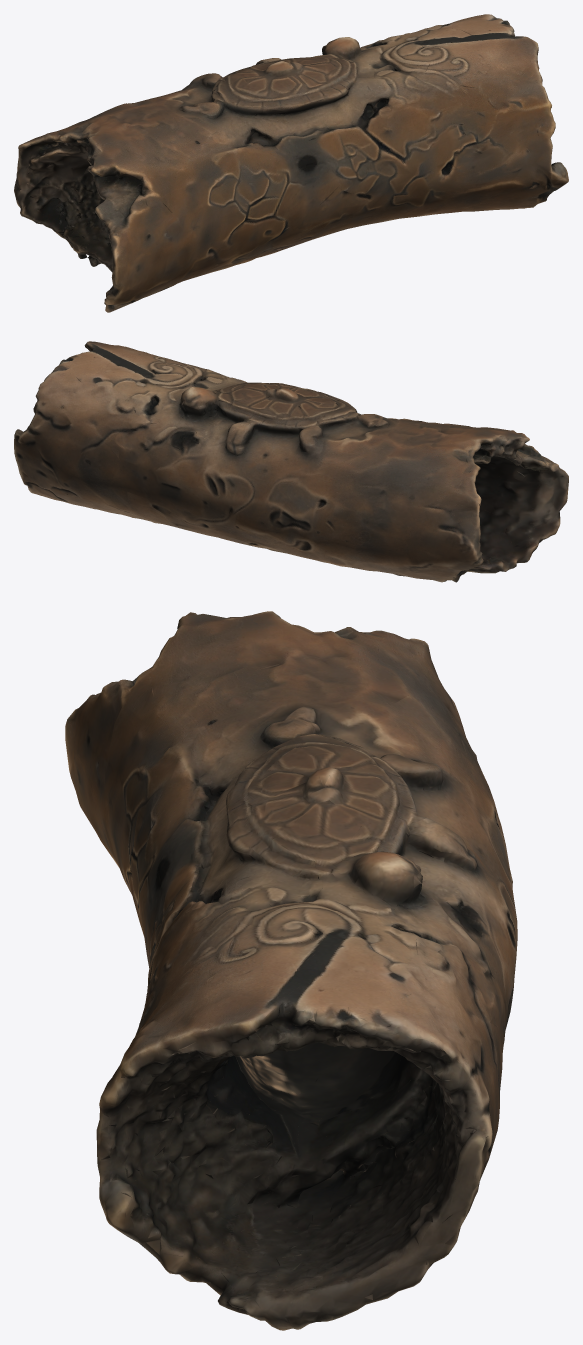
File: Meshy_AI_Ancient_Turtle_Shell__0822070310_texture.fbx
3 renders of one model, top to bottom at view 1: azimuth 30°, elevation 25°; view 2: azimuth 150°, elevation 25°; view 3: azimuth 270°, elevation 25°, orthographic. The views are drawn at different scales.
Parts seen in each view (by area): view 1: output_unwrapped; view 2: output_unwrapped; view 3: output_unwrapped.
Boxes of the visible parts, left/top/right/bottom form: output_unwrapped: left=14, top=14, right=568, bottom=312; output_unwrapped: left=14, top=341, right=568, bottom=582; output_unwrapped: left=65, top=611, right=517, bottom=1330.
Size of the model in its own units: 200 by 71.58 by 86.24.
Materials: 1 (1 with a texture image).
